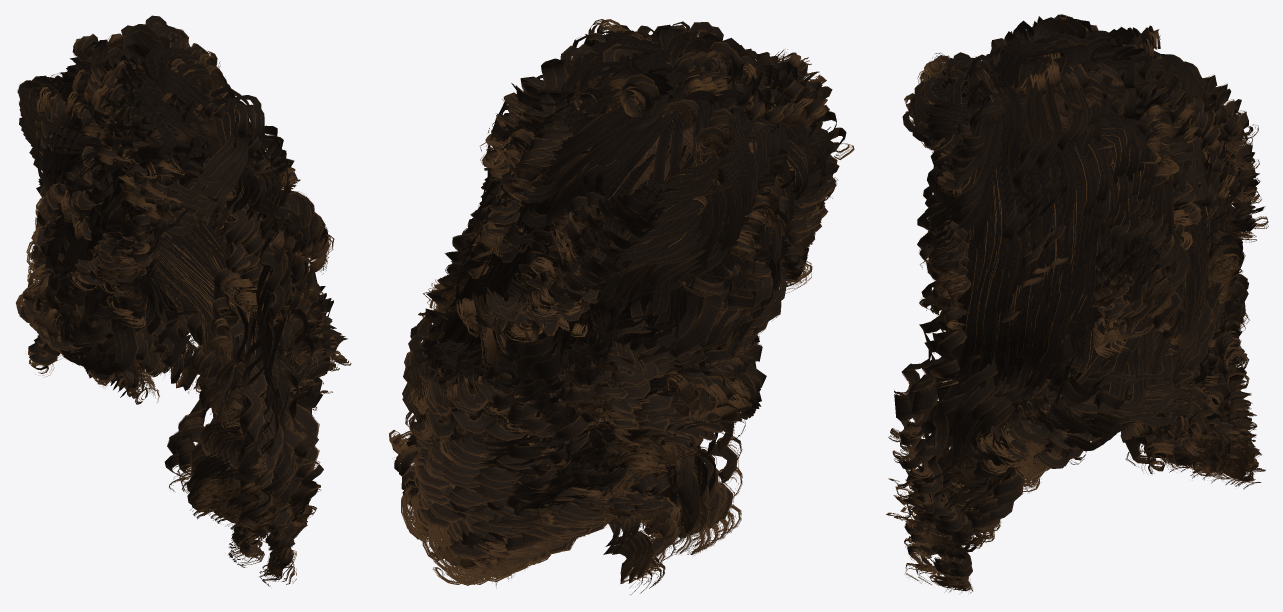
The model's file is mh_o4saken_curly01.glb.
The picture shows the model from 3 angles, left to right: view 1: azimuth 30°, elevation 25°; view 2: azimuth 150°, elevation 25°; view 3: azimuth 270°, elevation 25°; orthographic projection. The views are drawn at different scales.
Visible parts, largest first — view 1: mh_o4saken_curly01; view 2: mh_o4saken_curly01; view 3: mh_o4saken_curly01.
Part boxes in pixels (bbox=[...]): mh_o4saken_curly01: bbox=[16, 15, 351, 586]; mh_o4saken_curly01: bbox=[389, 19, 854, 595]; mh_o4saken_curly01: bbox=[886, 14, 1268, 593].
Bounding box in the file's own units: 0.3153 × 0.5279 × 0.3431.
1 material, 1 textured.
